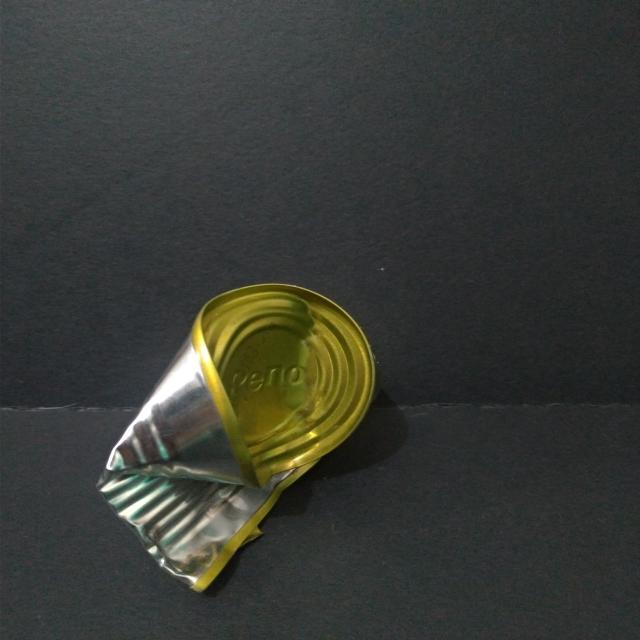metal-can: (95, 278, 382, 594)
